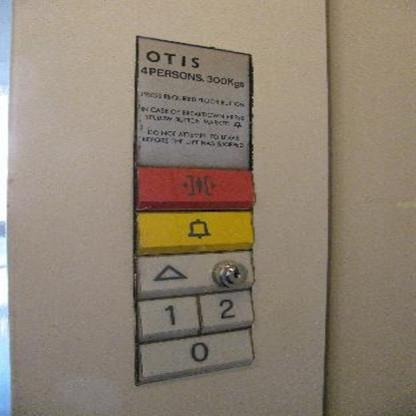0: (129, 322, 258, 389)
1: (130, 292, 205, 345)
2: (192, 287, 256, 337)
alarm: (129, 206, 257, 258)
open: (128, 162, 258, 214)
up: (130, 246, 257, 295)
